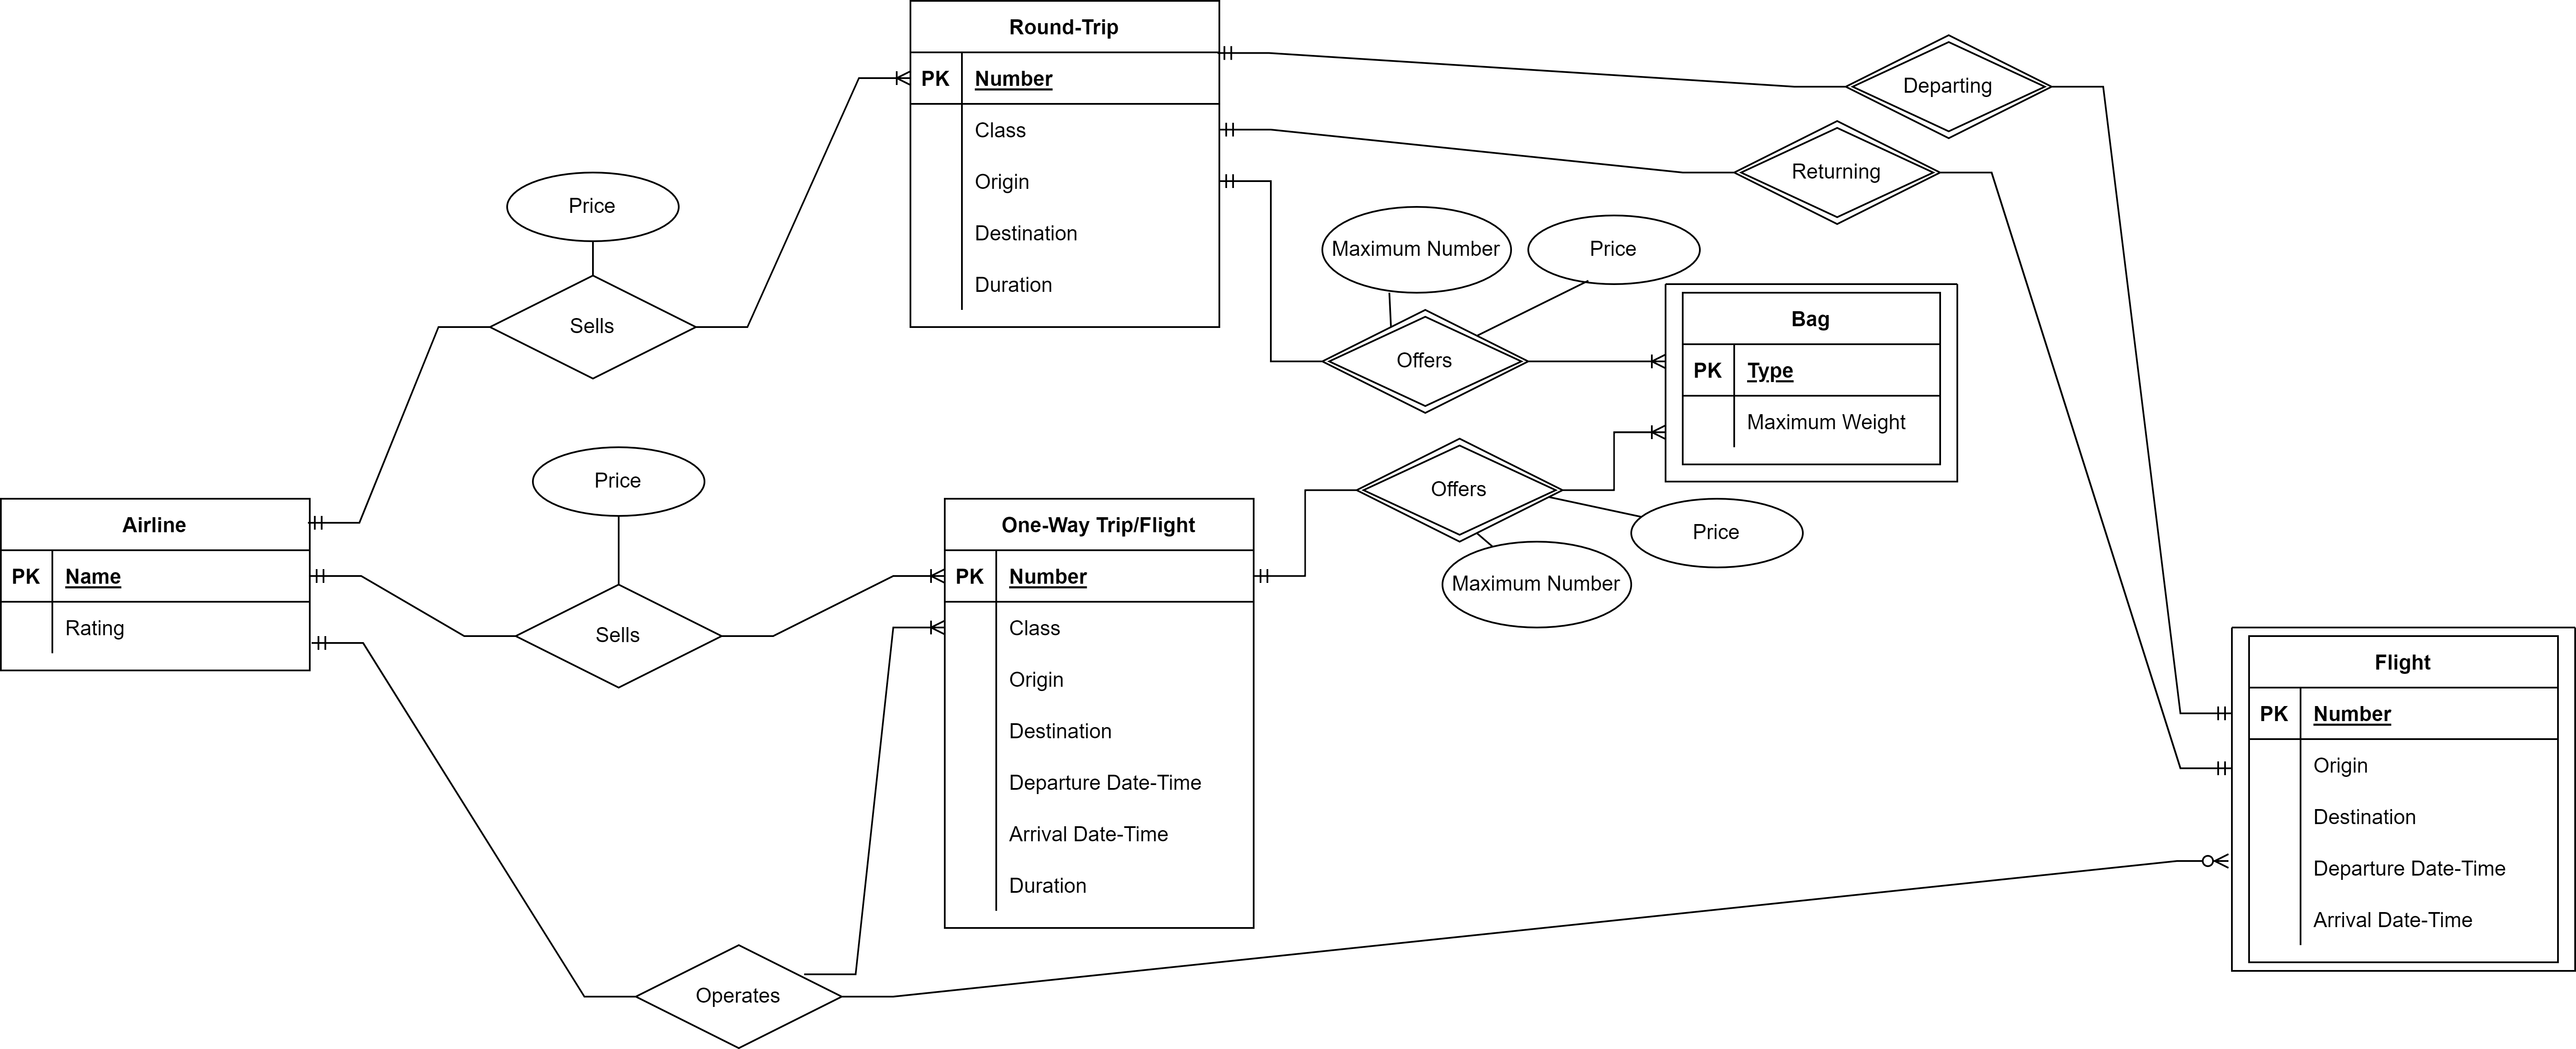entity: (943, 497, 1257, 929), (907, 3, 1222, 335), (3, 500, 312, 668)
ident_rel: (1355, 436, 1562, 543), (1845, 35, 2050, 140), (1324, 312, 1531, 416), (1735, 122, 1939, 222)
many: (2177, 850, 2231, 876), (892, 567, 945, 587), (1610, 354, 1666, 372), (1615, 424, 1667, 442), (892, 620, 945, 635)
one: (312, 633, 363, 653), (2178, 761, 2229, 781), (1221, 173, 1270, 192), (1253, 566, 1303, 585), (2185, 704, 2233, 723), (307, 515, 358, 533), (310, 566, 360, 584), (1224, 122, 1267, 140), (1221, 48, 1265, 59)
rel: (486, 275, 697, 381), (636, 947, 839, 1049), (517, 587, 723, 687)
rel_attr: (1439, 541, 1633, 630), (1322, 206, 1511, 296), (532, 446, 705, 518), (506, 173, 682, 243), (1630, 498, 1804, 569), (1529, 215, 1702, 283)
weak_entity: (2231, 630, 2576, 972), (1663, 284, 1958, 487)
